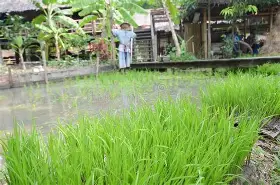crops: (0, 93, 265, 184), (198, 69, 280, 115), (68, 68, 206, 94), (45, 53, 89, 68), (168, 46, 197, 61), (254, 61, 280, 75), (155, 72, 197, 79)
